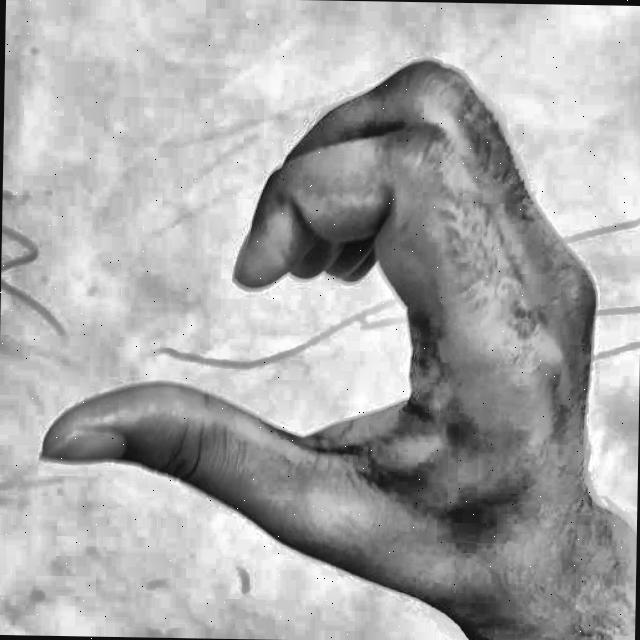Kha: (34, 14, 618, 622)
